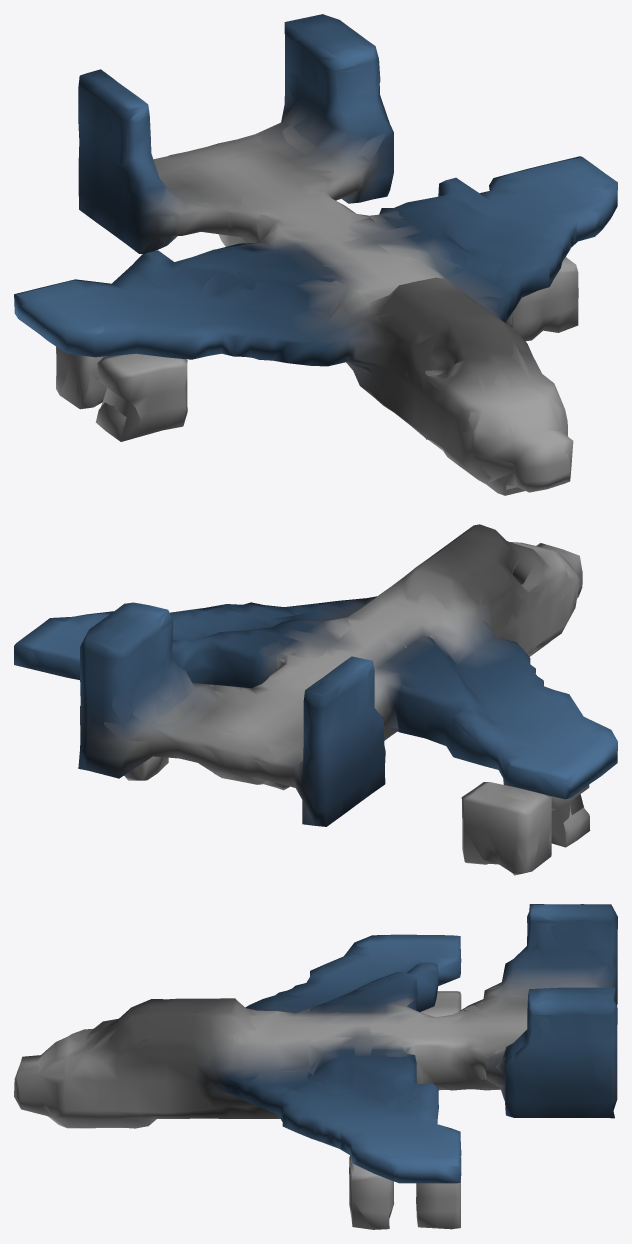
File: hornet_fighter.glb
3 renders of one model, top to bottom at view 1: azimuth 30°, elevation 25°; view 2: azimuth 150°, elevation 25°; view 3: azimuth 270°, elevation 25°, orthographic. The views are drawn at different scales.
Parts seen in each view (by area): view 1: hornet_fighter; view 2: hornet_fighter; view 3: hornet_fighter.
Boxes of the visible parts, bbox=[...] form: hornet_fighter: bbox=[14, 14, 617, 495]; hornet_fighter: bbox=[14, 524, 617, 875]; hornet_fighter: bbox=[14, 904, 617, 1229].
Size of the model in its own units: 1.99 by 0.769 by 2.2.
